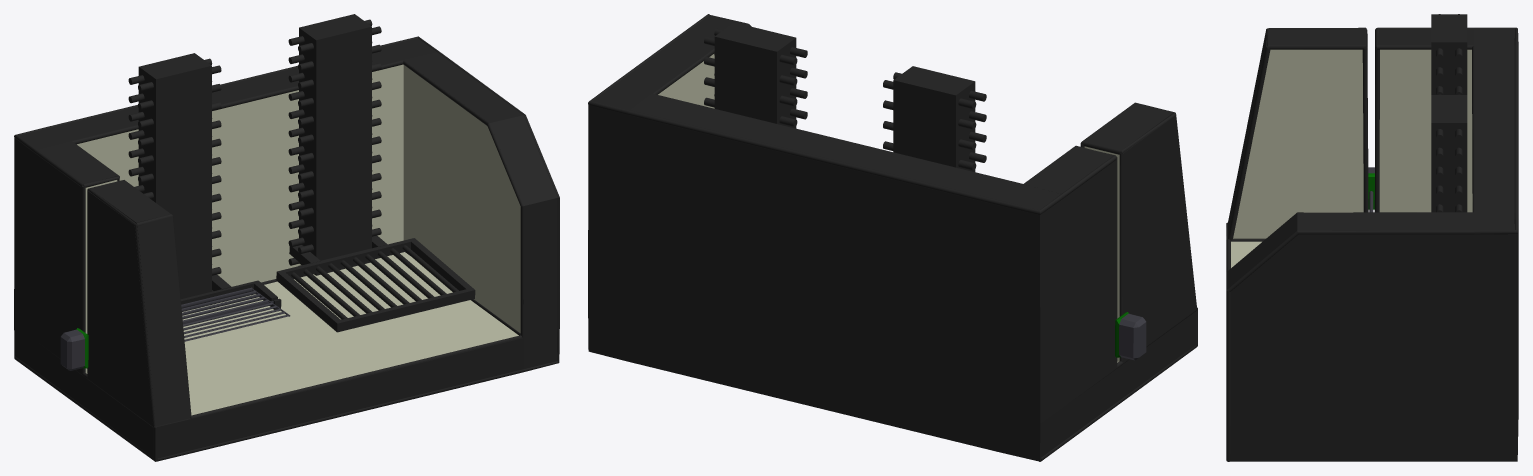
Rendered from parrilla_model_v4.glb.
3 views of the same model, side by side, from view 1: azimuth 30°, elevation 25°; view 2: azimuth 150°, elevation 25°; view 3: azimuth 270°, elevation 25° (orthographic). The views are drawn at different scales.
Parts seen in each view (by area): view 1: estructura_tapa, estructura_base, base_parrilla.001, base_parrilla, estructura_bordeado, Parrilla cuadrado.001, Parrilla rejillas.001, Cylinder, Cylinder.008, Cylinder.003, rotor, Cylinder.002 (+4 smaller); view 2: estructura_tapa, estructura_bordeado, base_parrilla.001, base_parrilla, estructura_base, rotor; view 3: estructura_tapa, estructura_base, estructura_bordeado, base_parrilla.001, base_parrilla, Cylinder.001, Cylinder.002.
Boxes of the visible parts, x1,y1,x2,y2 form: estructura_tapa: (14,38,559,458); estructura_base: (77,64,520,415); base_parrilla.001: (299,14,371,275); base_parrilla: (138,53,211,298); estructura_bordeado: (14,36,559,461); Parrilla cuadrado.001: (276,238,475,332); Parrilla rejillas.001: (291,245,458,319); Cylinder: (181,287,289,341); Cylinder.008: (288,36,304,265); Cylinder.003: (298,43,313,265); rotor: (60,328,88,370); Cylinder.002: (372,26,381,236); estructura_tapa: (588,15,1197,461); estructura_bordeado: (588,14,1197,461); base_parrilla.001: (714,22,796,128); base_parrilla: (893,66,975,171); estructura_base: (658,54,1119,362); rotor: (1115,312,1146,360); estructura_tapa: (1226,28,1518,461); estructura_base: (1231,49,1472,267); estructura_bordeado: (1226,27,1518,461); base_parrilla.001: (1431,95,1467,212); base_parrilla: (1431,14,1467,94); Cylinder.001: (1455,129,1462,212); Cylinder.002: (1436,129,1443,212).
Bounding box in the file's own units: 4.26 × 2.73 × 2.45.
